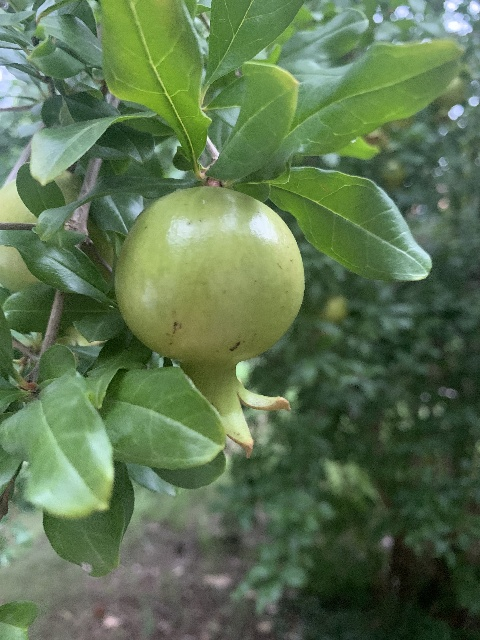mid-growth: (113, 184, 305, 460)
